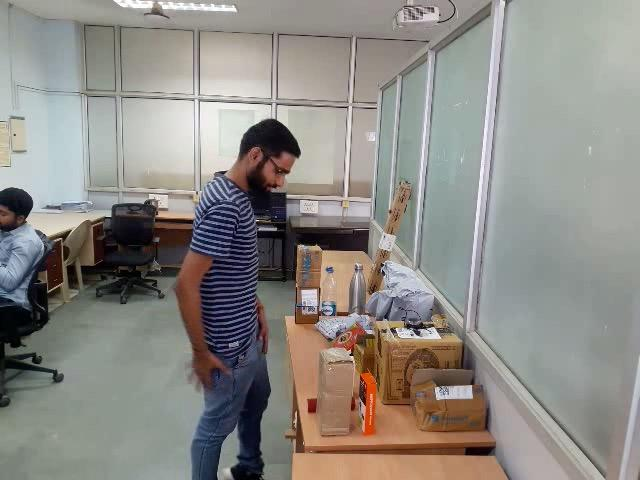Normal: (1, 1, 640, 436)
